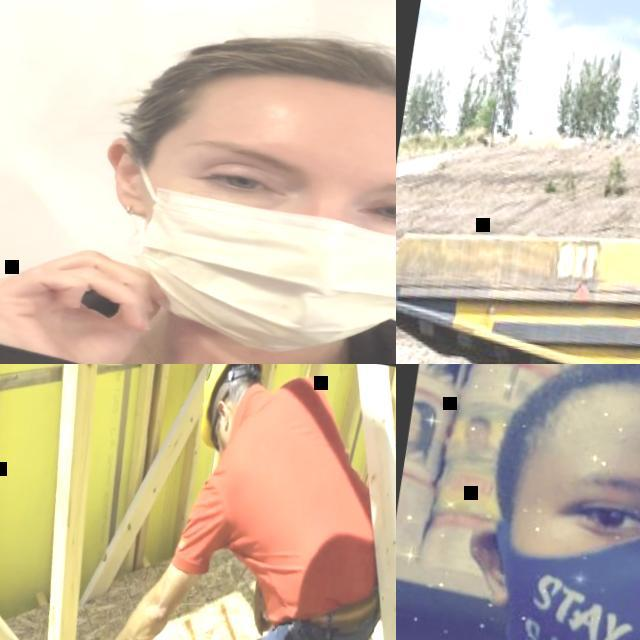helmet: (193, 364, 265, 453)
